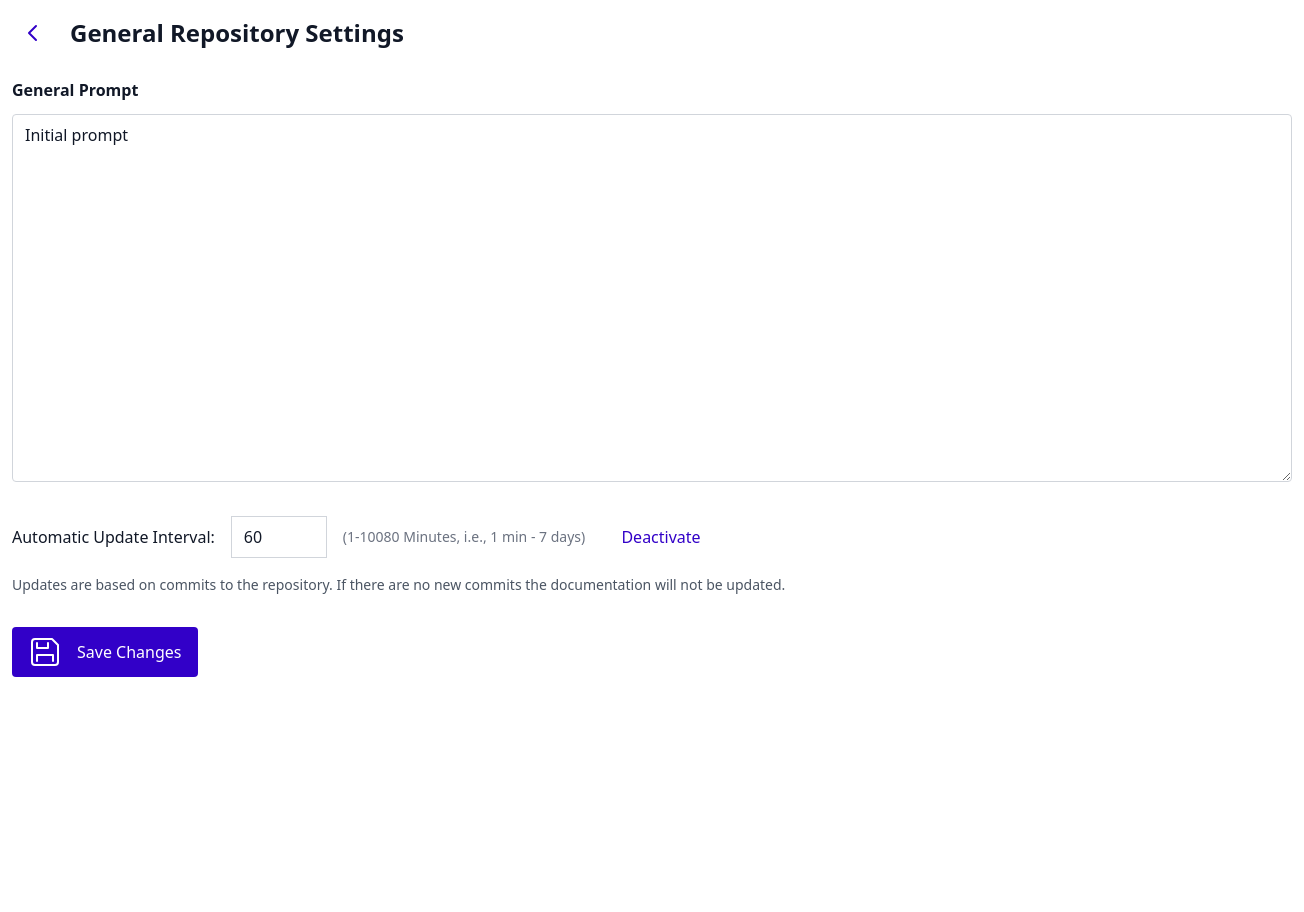
Test case: GeneralSetting - integration tests › toggles update time enable/disable
The image size is (1304, 912).
Note: Disable automatic updates
Step 1. Click the button "Deactivate" → click(661, 537), box [601,514,721,559]
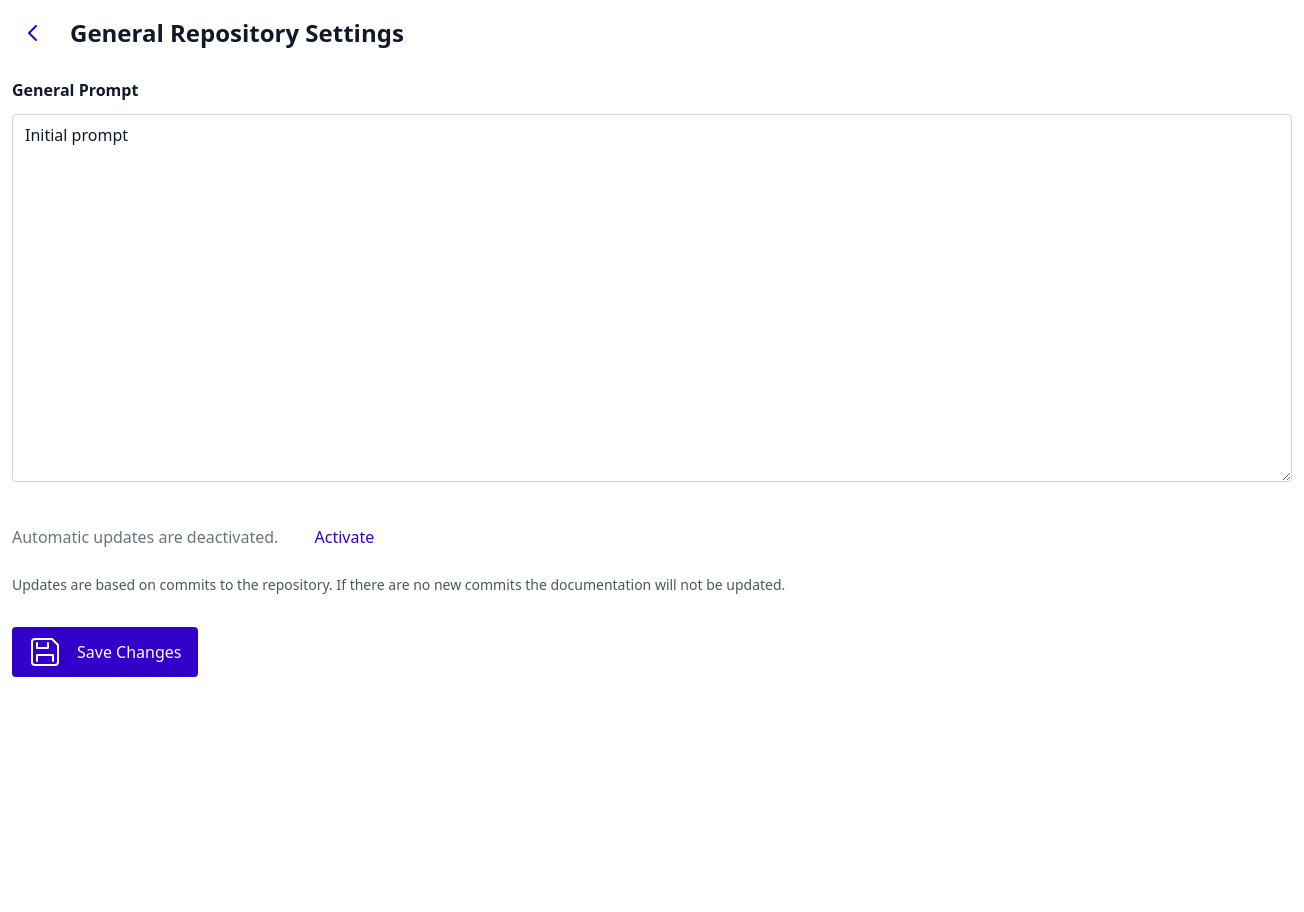
Check: the text "Automatic updates are deactivated." is shown, box [12,525,278,549]
Note: Re-enable automatic updates
Step 2. Click the button "Activate" → click(344, 537), box [294,514,394,559]
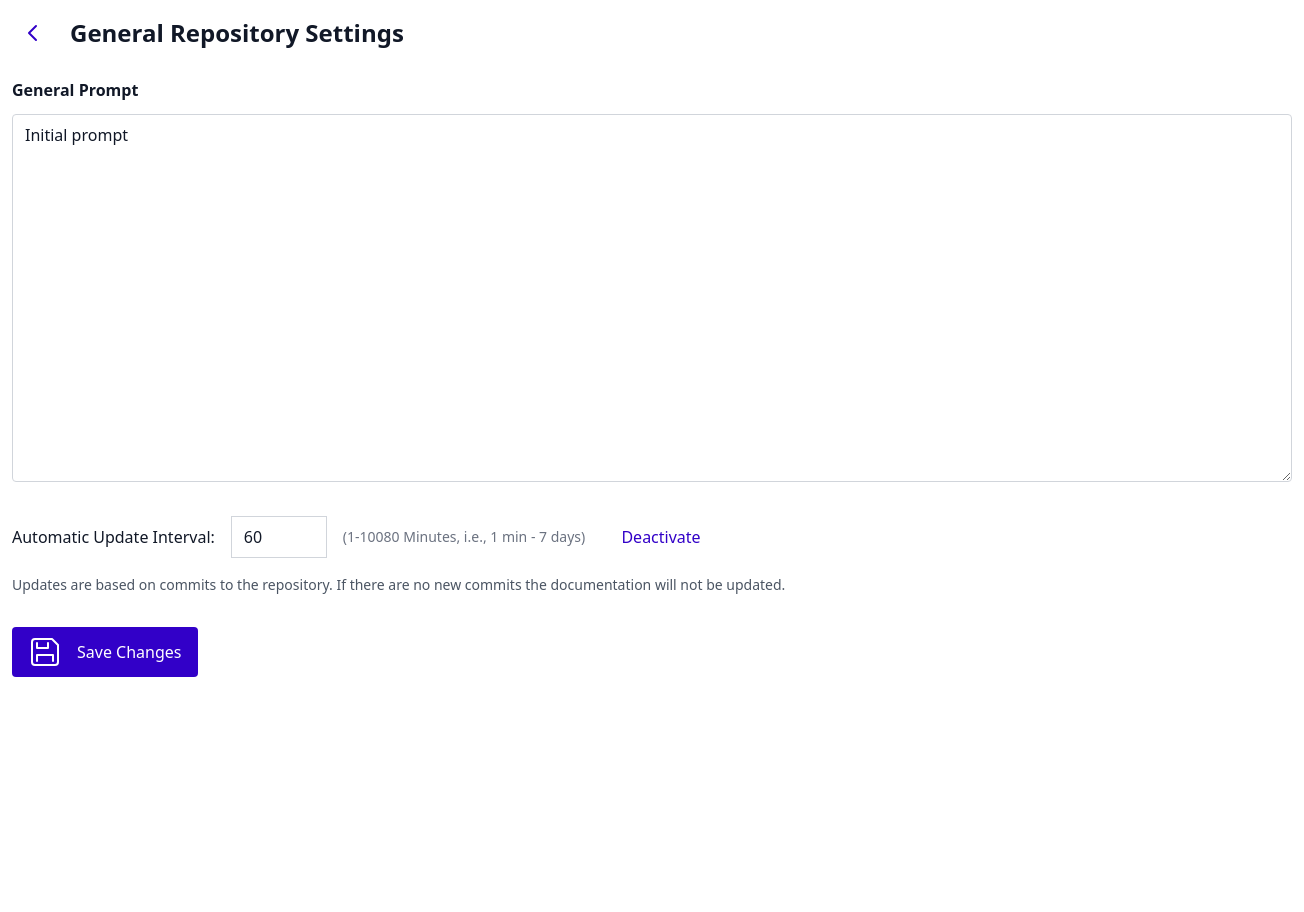
Check: the text "Automatic Update Interval:" is shown, box [12,525,215,549]
